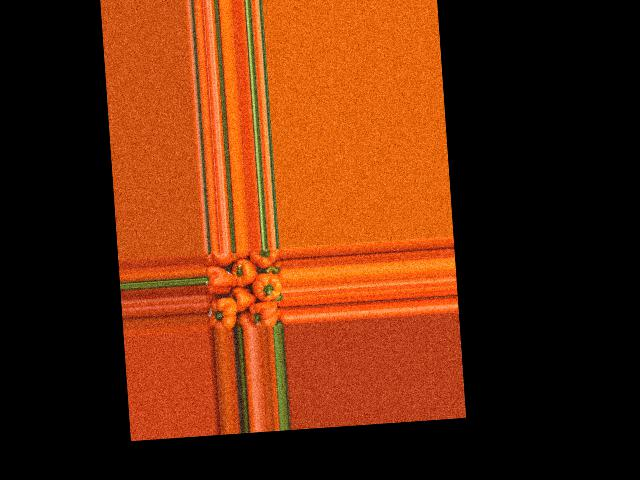bell_pepper: (202, 252, 233, 267)
